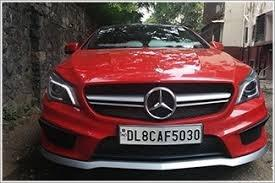Liscence Plate: (120, 126, 204, 143)
